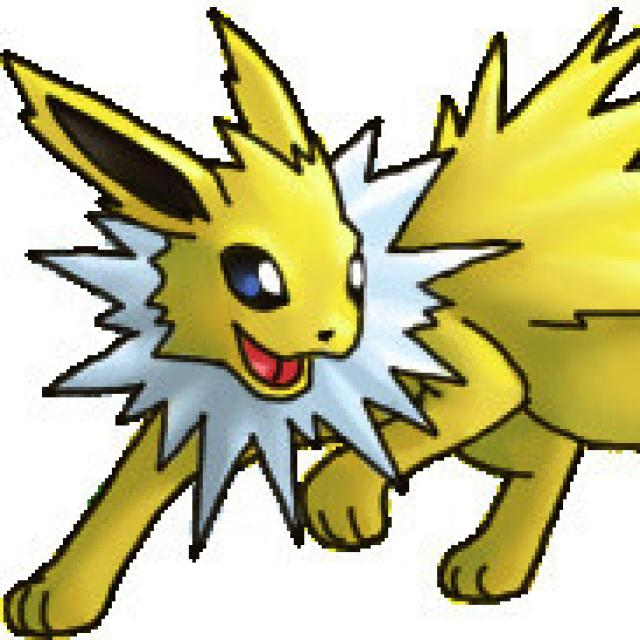Jolteon: (64, 25, 543, 597)
